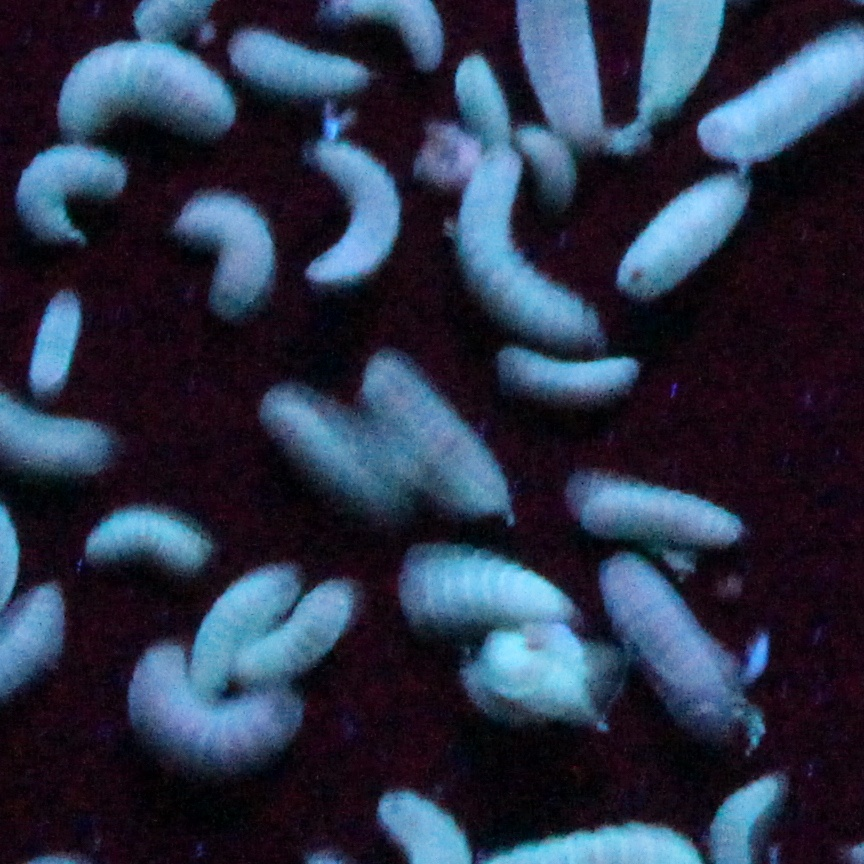larve: (599, 556, 754, 733), (362, 352, 520, 525), (468, 144, 601, 337), (124, 639, 306, 775), (260, 389, 410, 516), (56, 44, 245, 135), (401, 541, 587, 629), (191, 564, 304, 694), (620, 177, 749, 287), (308, 135, 401, 285), (574, 475, 749, 546), (235, 579, 358, 679), (183, 196, 279, 319), (12, 146, 126, 248), (233, 25, 372, 100), (83, 502, 214, 579), (504, 344, 641, 404), (29, 294, 85, 400), (524, 123, 583, 206)
